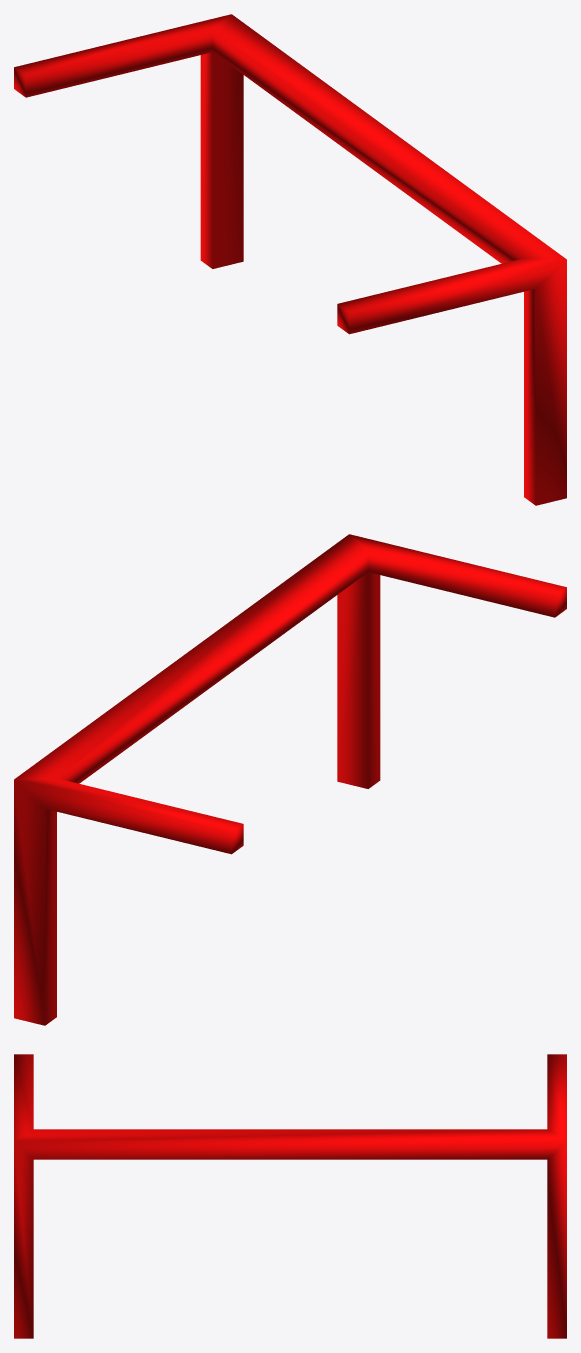
The model's file is Goalsopponentback.004.dae.
The picture shows the model from 3 angles, top to bottom: view 1: azimuth 30°, elevation 25°; view 2: azimuth 150°, elevation 25°; view 3: azimuth 270°, elevation 25°; orthographic projection. The views are drawn at different scales.
Visible parts, largest first — view 1: collision_0_field_1_7; view 2: collision_0_field_1_7; view 3: collision_0_field_1_7.
Boxes of the visible parts, box(x1,y1,x2,y2) form: collision_0_field_1_7: box(14, 14, 566, 505); collision_0_field_1_7: box(14, 534, 566, 1025); collision_0_field_1_7: box(14, 1054, 566, 1338).
Size of the model in its own units: 1.39 by 3.71 by 1.46.
